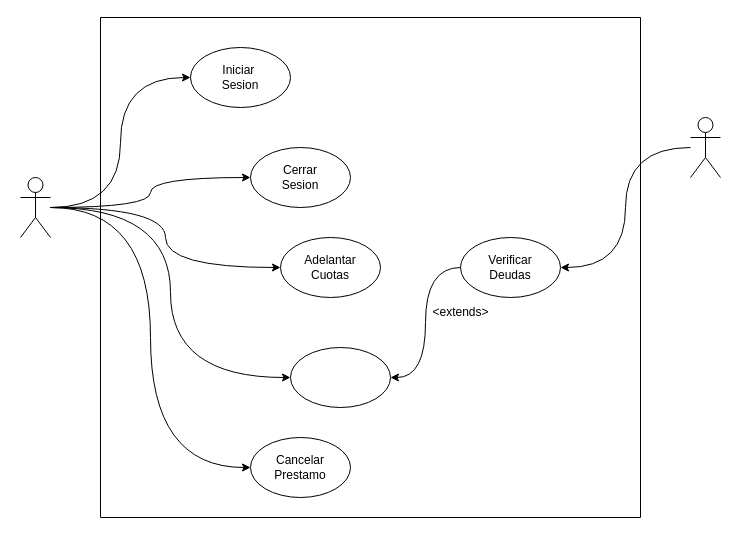
The diagram is 738 pixels wide and 535 high, and some of its shapes have lost their labels. Each missing label, with the centre of its shape:
"Cliente" belongs at point (35, 207).
"Solicitar Prestamo" belongs at point (340, 377).
"Veraz" belongs at point (705, 147).
